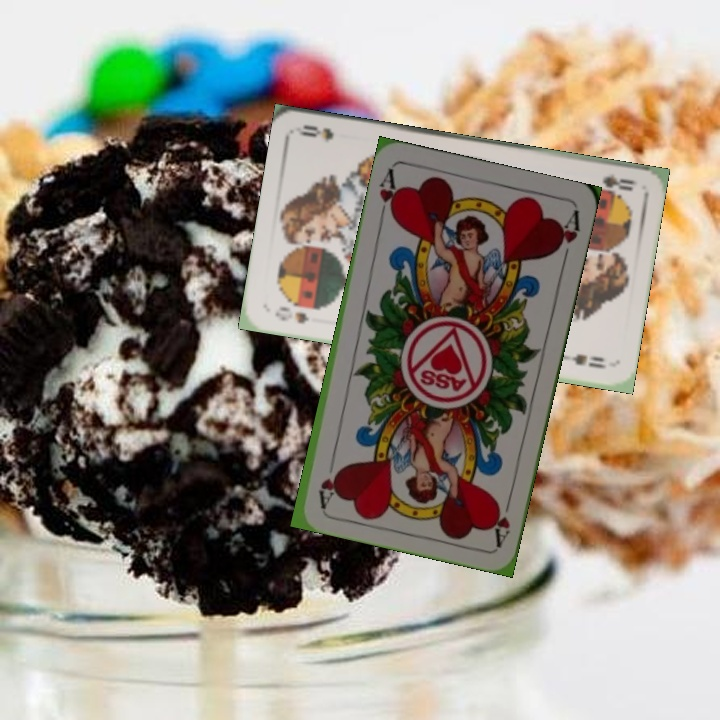HA: (487, 489, 516, 548), (375, 164, 402, 223)
SO: (587, 169, 640, 194), (270, 302, 311, 327)
